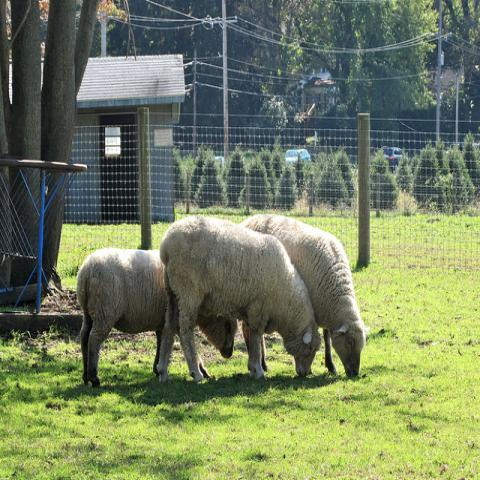car: (284, 147, 312, 165), (383, 146, 404, 166)
